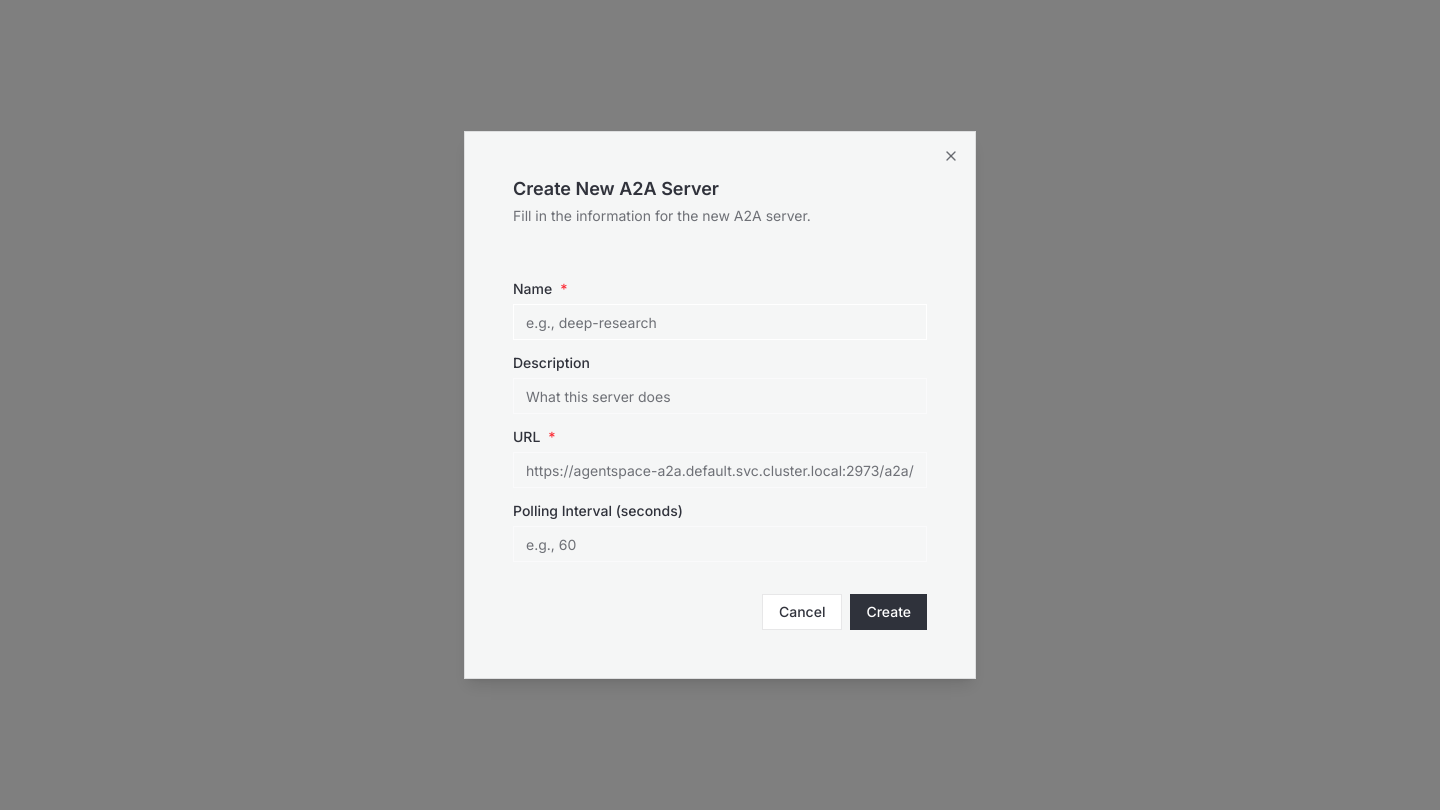
Test: A2AEditor › validation › should show error when URL is empty on submit
Type "valid-name" into the field with placeholder "e.g., deep-research". click: (720, 322)
box: [513,304,927,340]
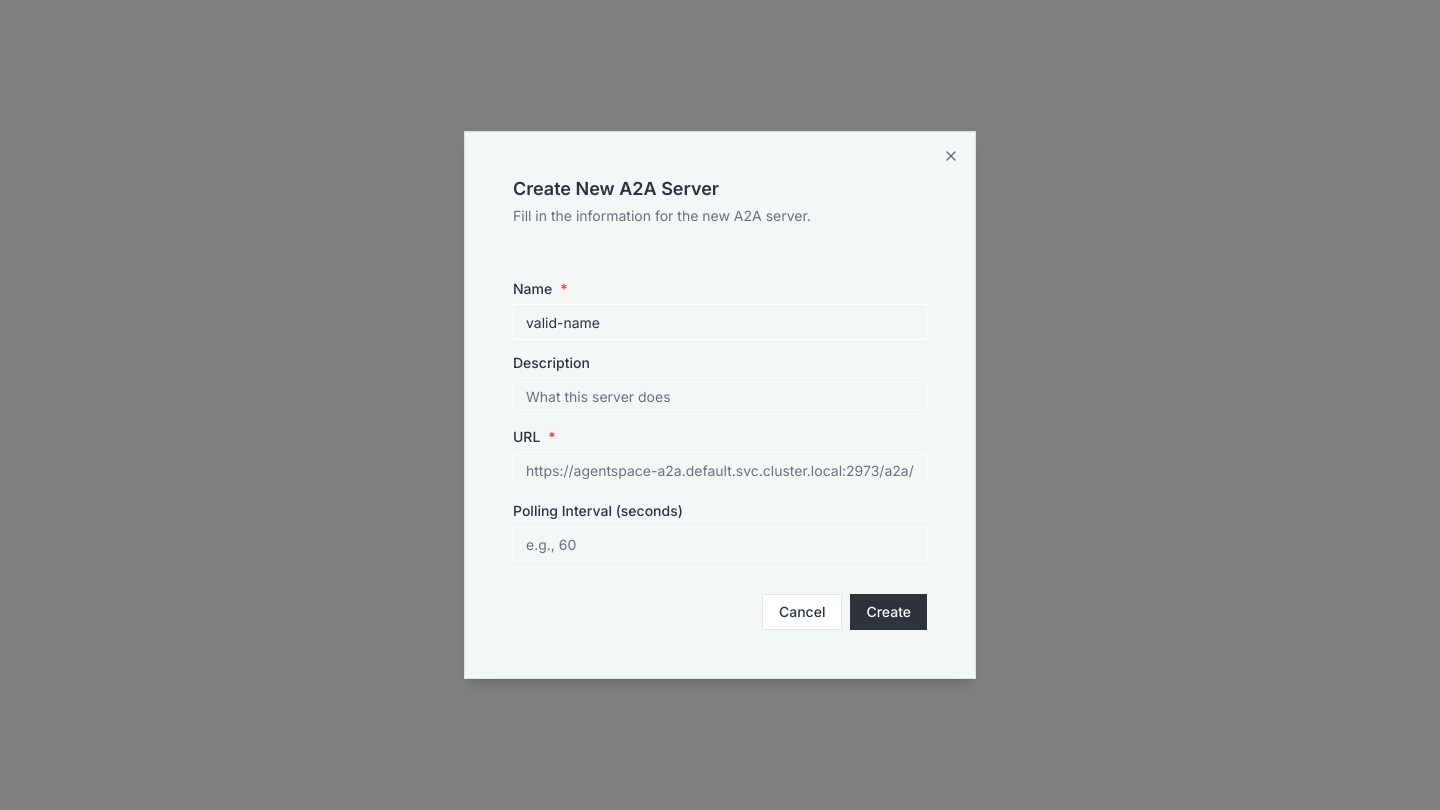
Click the button "Create". click: click(889, 612)
box: [850,594,927,630]
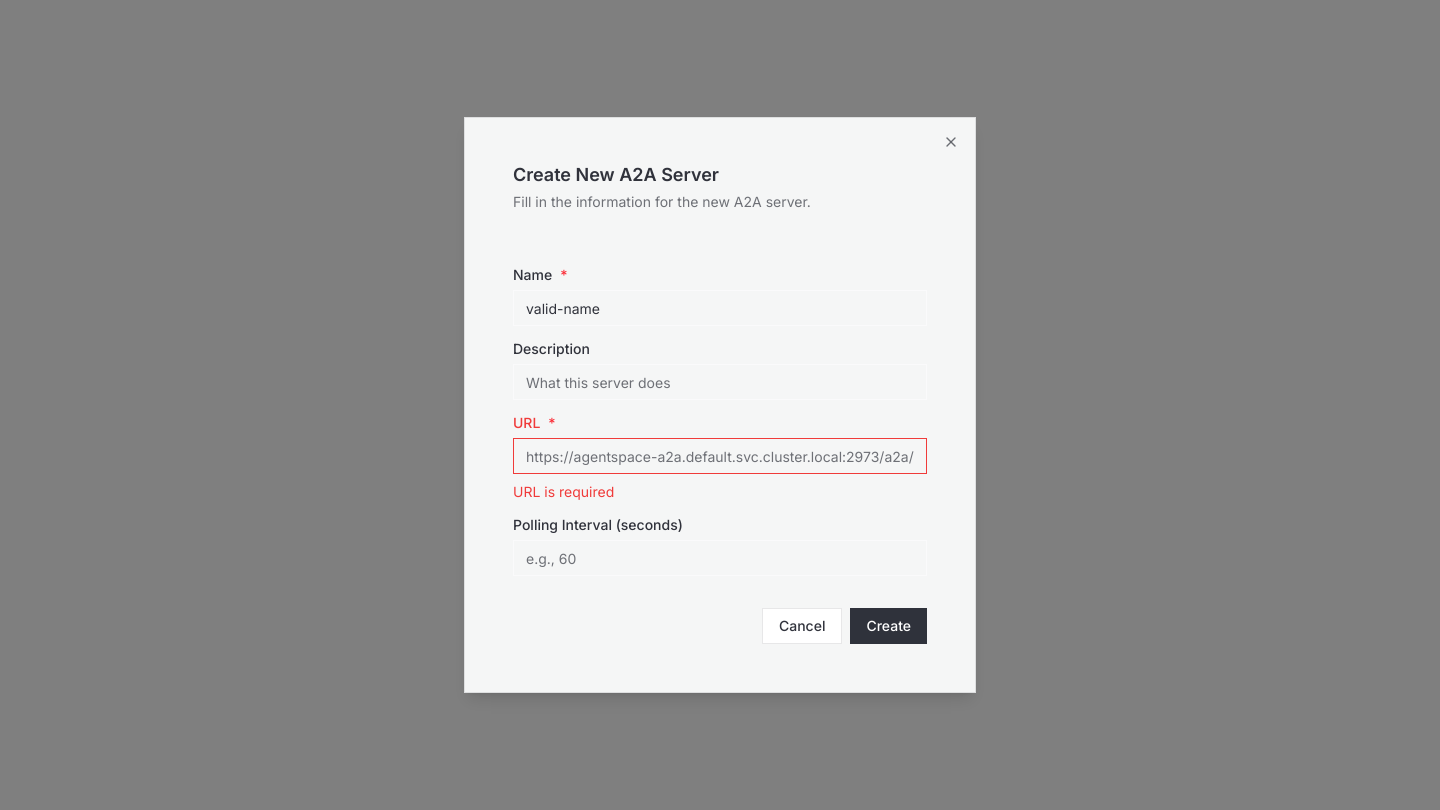
Check: the text "URL is required" is shown, box [513,483,614,500]
